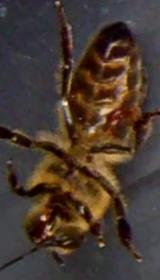varroa_mite: (102, 98, 138, 137)
